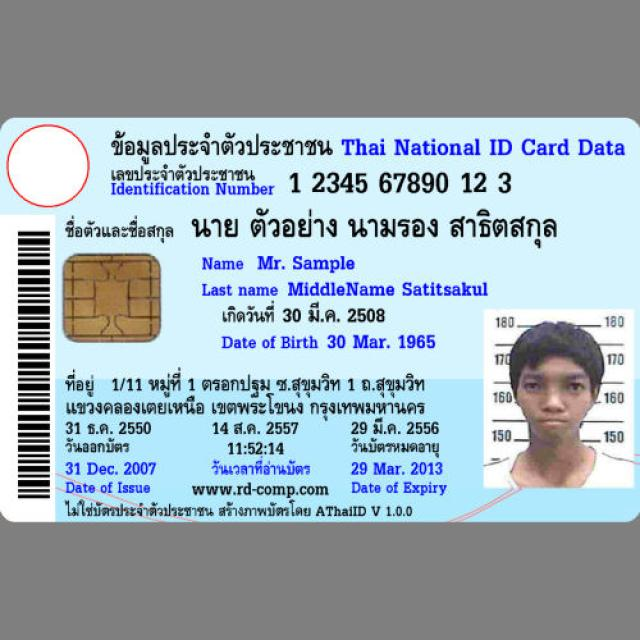Address_th: (59, 362, 453, 419)
Date_of_Birth: (322, 326, 444, 359)
Date_of_Expiry: (345, 458, 450, 479)
Date_of_Issue: (61, 458, 163, 481)
First_Name: (252, 249, 358, 275)
ID_Number: (281, 163, 519, 202)
Image: (486, 307, 636, 490)
Last_Name: (283, 277, 493, 301)
Thai_Name: (188, 200, 572, 252)
